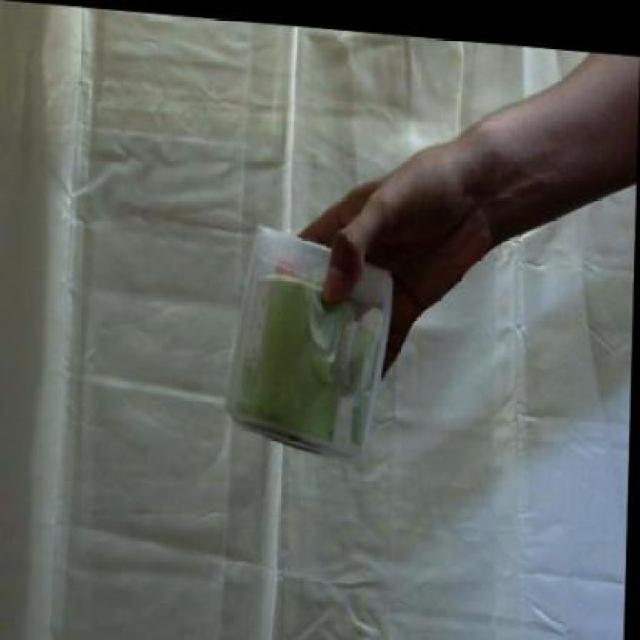Plastic: (222, 217, 399, 470)
